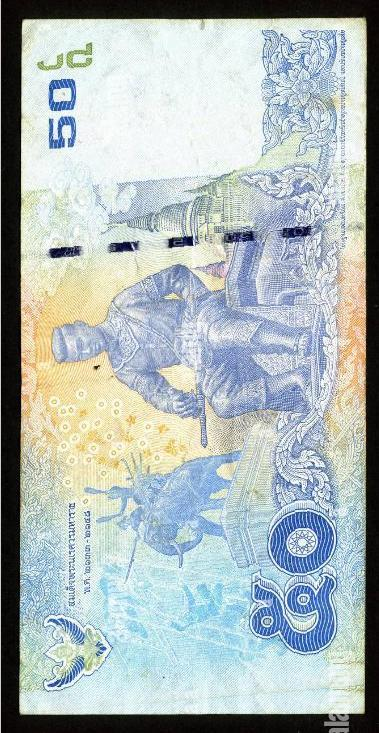50BahtTai: (18, 30, 364, 714)
